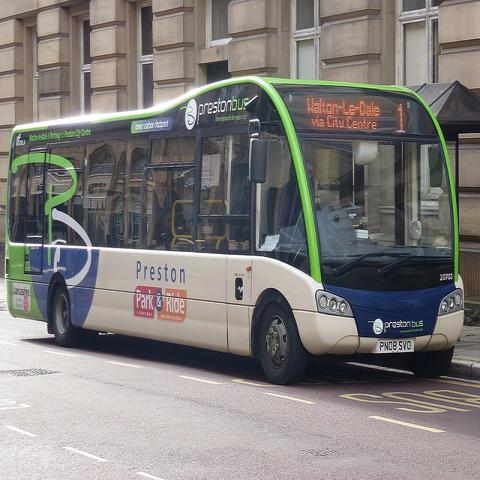bus: (1, 72, 467, 383)
